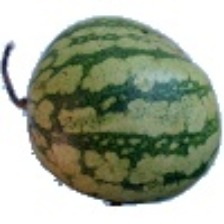watermelon: (59, 10, 204, 209)
